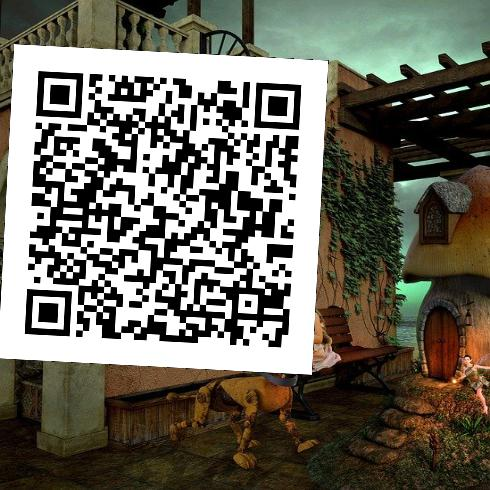qr_code: (0, 45, 328, 373)
